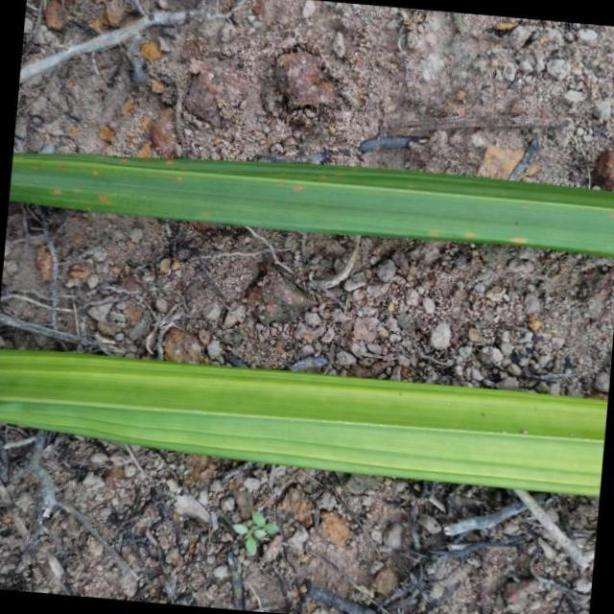nitrogen: (3, 347, 608, 496), (11, 149, 614, 259)
